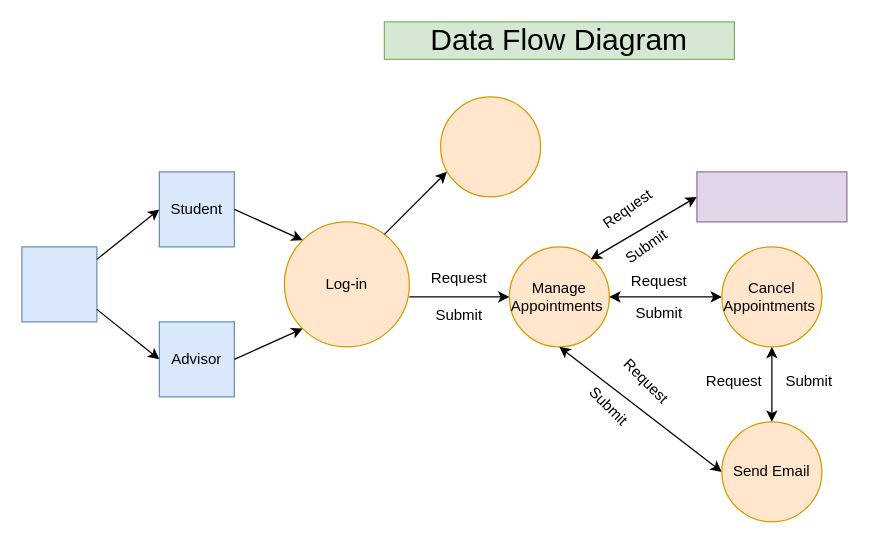
The diagram is 869 pixels wide and 544 high, and some of its shapes have lost their labels. Here are the shapes that lost their labels. From the top down, the box of each, then its label:
(439, 96, 541, 197): Interact with AI Chatbot
(696, 171, 847, 222): Database
(21, 246, 97, 322): Users
